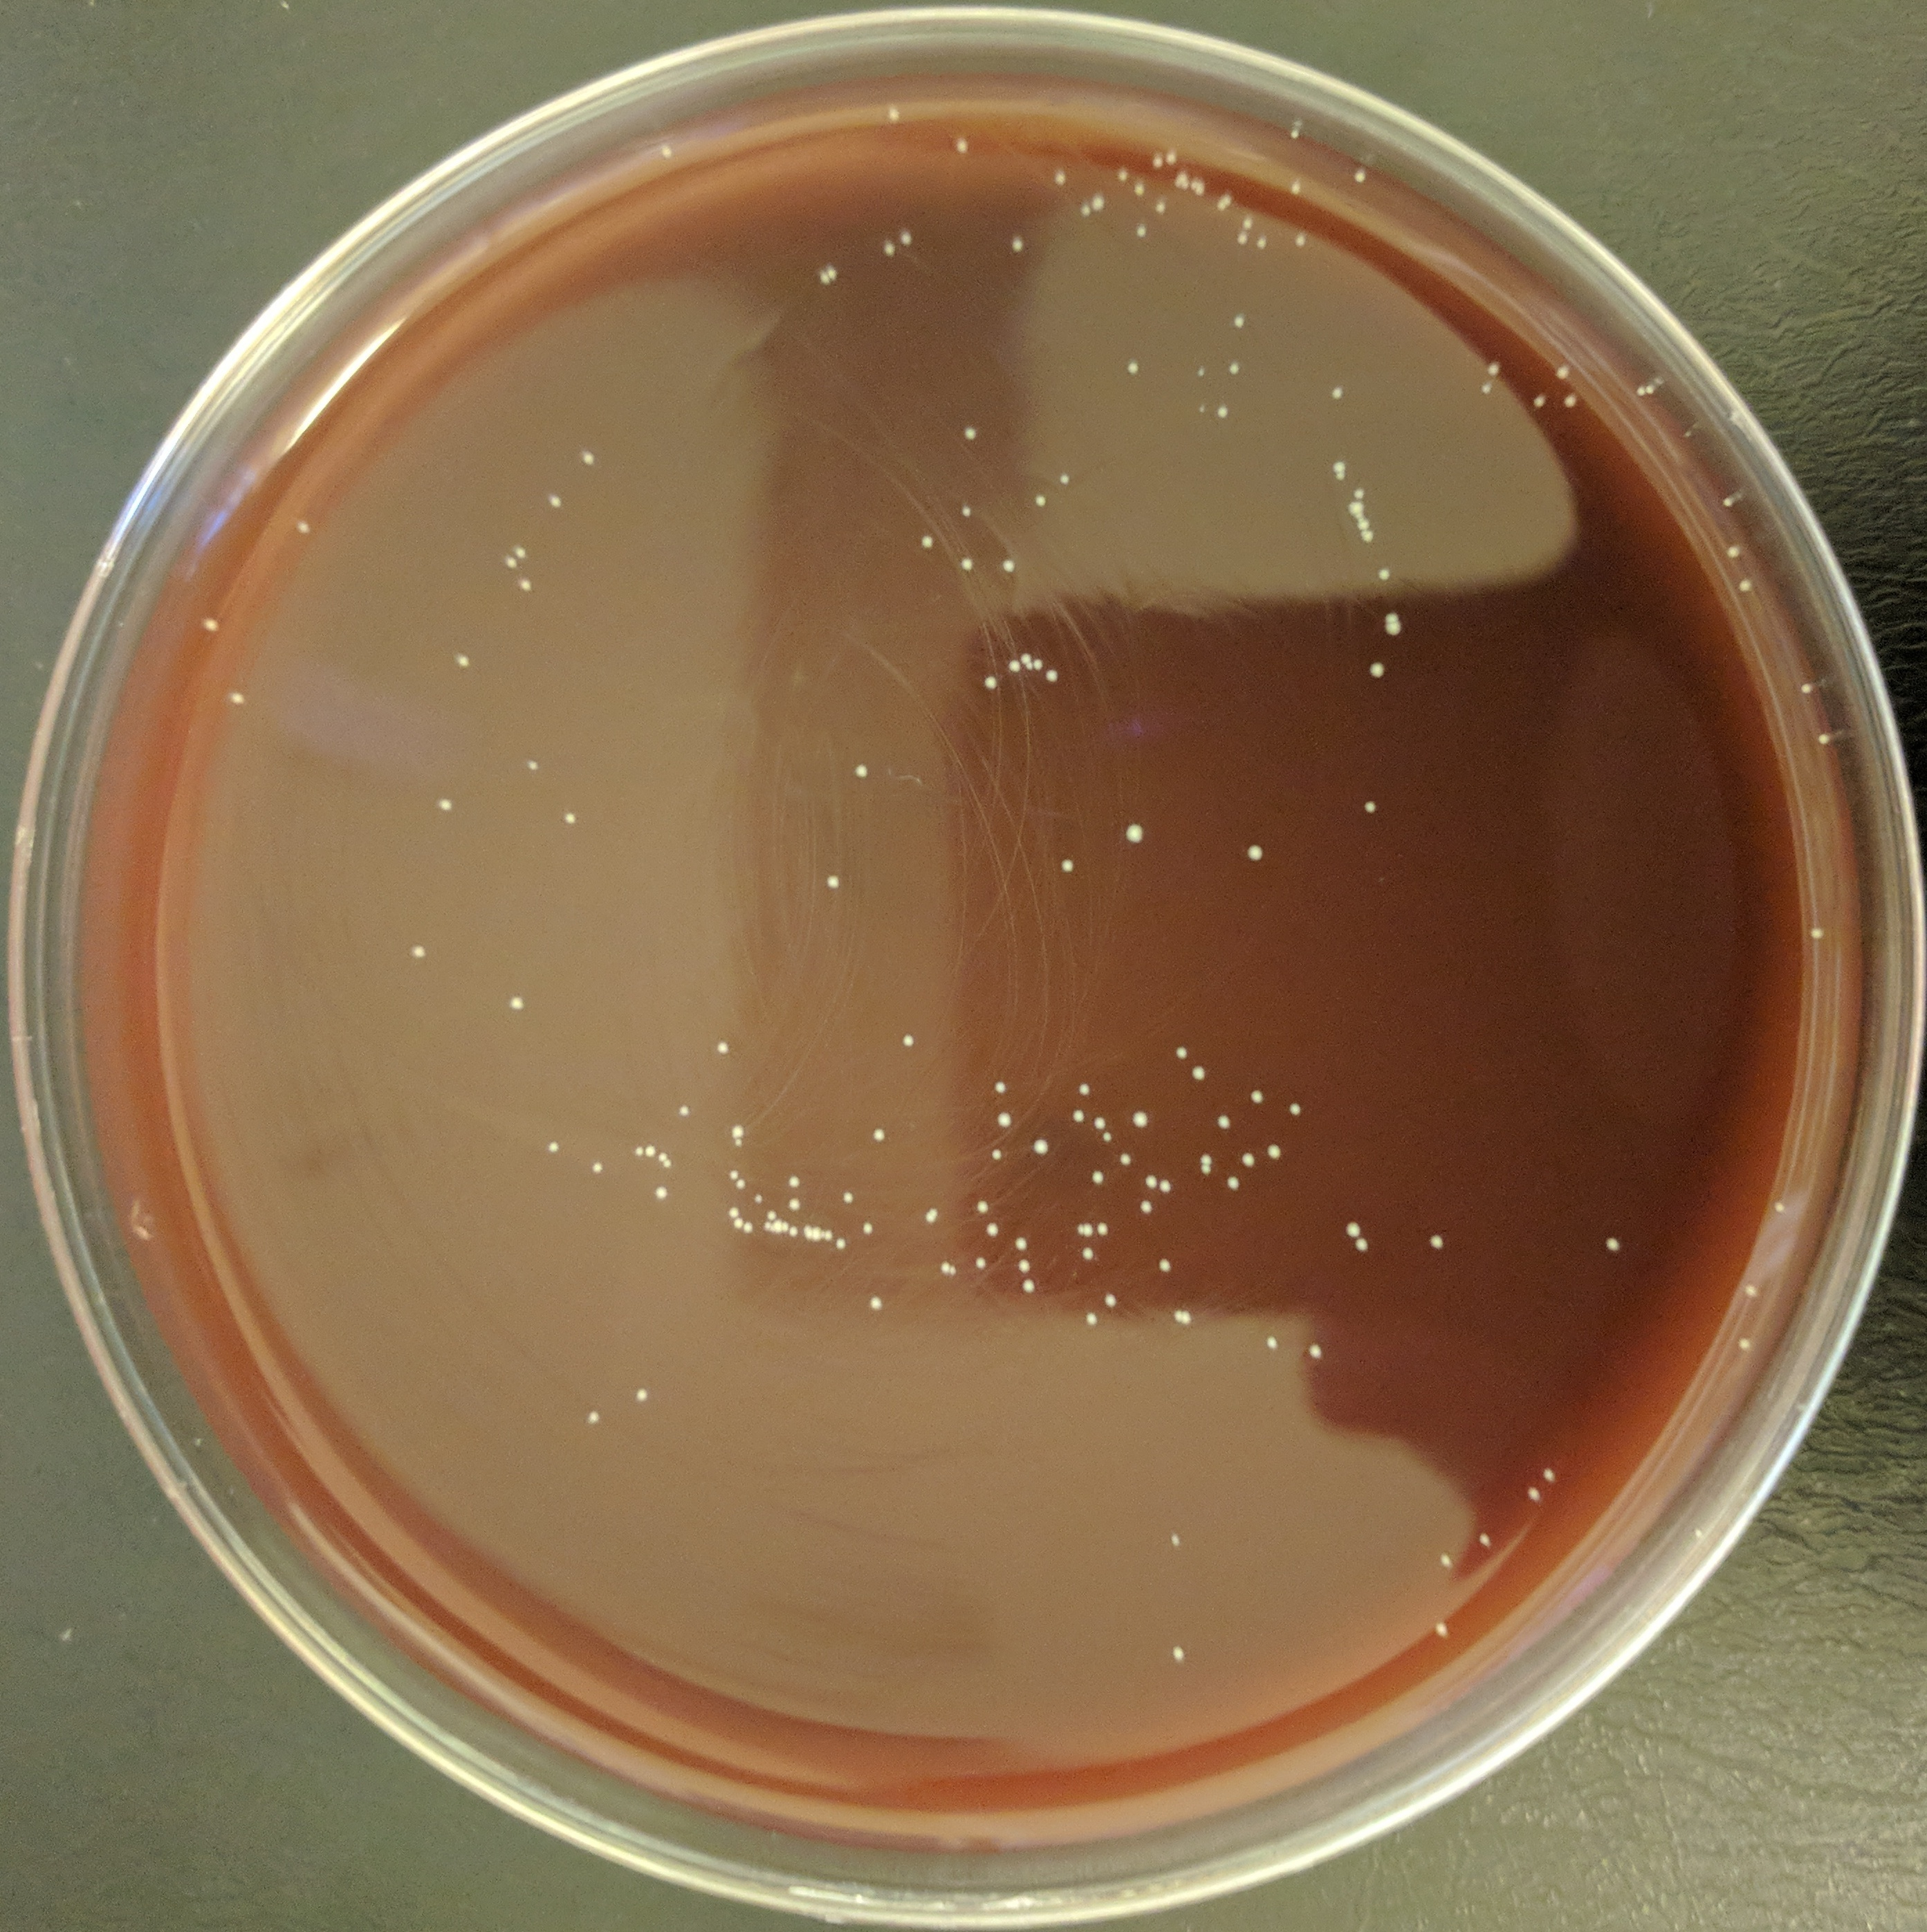sp09: (1244, 836, 1272, 868), (196, 614, 224, 640), (448, 648, 476, 672), (1168, 1641, 1193, 1669), (1433, 1549, 1463, 1572), (224, 686, 249, 713), (1124, 820, 1149, 847), (1159, 1530, 1188, 1553), (291, 517, 316, 542), (881, 102, 905, 127), (1057, 852, 1080, 879), (956, 420, 983, 443), (404, 940, 431, 963), (1541, 1464, 1565, 1487), (997, 550, 1018, 577), (948, 132, 974, 154), (849, 762, 877, 782), (1048, 166, 1071, 189), (1807, 923, 1830, 946), (1016, 1276, 1039, 1299), (976, 672, 1001, 693), (1285, 176, 1306, 201), (866, 1290, 888, 1314), (1101, 1290, 1121, 1316), (577, 445, 600, 466), (431, 792, 454, 813), (1366, 660, 1389, 681), (1602, 1233, 1623, 1256), (1265, 1142, 1286, 1164), (1128, 1110, 1151, 1131), (1029, 1136, 1052, 1157), (1304, 1341, 1325, 1364), (1189, 175, 1209, 199), (512, 577, 536, 596), (1482, 358, 1507, 378), (870, 1122, 889, 1147), (1172, 168, 1189, 194), (655, 143, 681, 161), (1237, 1149, 1258, 1170), (993, 1108, 1015, 1129), (840, 1187, 861, 1209), (1008, 235, 1031, 254), (1719, 492, 1738, 515), (1428, 1230, 1447, 1253), (1214, 1112, 1233, 1134), (1154, 1253, 1173, 1276), (634, 1383, 653, 1406), (821, 873, 845, 891), (1549, 363, 1574, 381), (1736, 1281, 1761, 1299), (1431, 1616, 1449, 1641), (861, 1216, 879, 1240), (1477, 1528, 1493, 1554), (510, 542, 531, 561), (955, 556, 976, 575), (956, 501, 976, 522), (1248, 1085, 1267, 1106), (1172, 1041, 1193, 1060), (1087, 1168, 1106, 1189), (1076, 1244, 1098, 1263), (981, 1219, 1002, 1239), (921, 1205, 941, 1226), (1735, 1334, 1754, 1355), (1525, 1484, 1544, 1505), (785, 1173, 806, 1193), (1530, 388, 1548, 411), (1348, 501, 1373, 517), (812, 265, 828, 289), (916, 531, 935, 550), (1031, 494, 1050, 513), (1352, 168, 1371, 187), (1475, 379, 1495, 399), (1188, 1064, 1207, 1083), (1013, 1256, 1032, 1276), (1357, 528, 1375, 549), (1285, 1101, 1306, 1119), (1075, 1080, 1096, 1097), (1094, 1219, 1112, 1240), (1009, 1235, 1031, 1253), (1181, 1304, 1195, 1330), (1263, 1332, 1281, 1353), (584, 1404, 602, 1426), (784, 1194, 805, 1212), (727, 1120, 748, 1138), (1092, 189, 1108, 212), (1357, 798, 1380, 813), (1382, 621, 1405, 637), (1726, 542, 1742, 565), (1233, 311, 1248, 335), (544, 492, 563, 510), (896, 226, 916, 243), (1124, 358, 1142, 378), (1350, 1237, 1369, 1254), (1223, 1175, 1242, 1193), (1069, 1106, 1089, 1124), (990, 1078, 1009, 1096), (724, 1166, 741, 1186), (674, 1101, 692, 1120), (1045, 667, 1066, 683), (1196, 1150, 1218, 1166), (642, 1142, 658, 1163), (828, 261, 842, 284), (1113, 164, 1128, 187), (1373, 565, 1391, 582), (1343, 1219, 1361, 1237), (881, 240, 896, 259), (1214, 402, 1230, 422), (1149, 154, 1168, 169), (1115, 1150, 1135, 1166), (1076, 205, 1098, 219), (1008, 658, 1022, 679), (1293, 231, 1306, 254), (559, 808, 577, 824), (1225, 362, 1241, 379), (508, 993, 524, 1011), (1158, 1177, 1173, 1194), (1138, 1198, 1154, 1216), (1172, 1304, 1182, 1330), (651, 1186, 669, 1202), (503, 550, 517, 570), (522, 753, 536, 773), (1131, 180, 1145, 199), (1329, 383, 1343, 402), (1212, 198, 1226, 217), (1814, 734, 1833, 748), (1643, 378, 1657, 397), (1382, 610, 1403, 623), (1235, 231, 1251, 247), (715, 1036, 731, 1052), (1562, 393, 1578, 409), (974, 1198, 990, 1214), (1082, 1311, 1098, 1327), (1154, 199, 1168, 217), (1193, 397, 1207, 415), (1191, 365, 1209, 379), (1239, 212, 1253, 229), (1223, 191, 1237, 208), (1798, 683, 1816, 697), (1773, 1198, 1788, 1216), (591, 1159, 605, 1177), (741, 1221, 755, 1239), (1331, 459, 1350, 471), (1055, 471, 1071, 485), (1288, 125, 1302, 141), (1738, 577, 1752, 593), (1143, 1173, 1158, 1189), (990, 1147, 1006, 1161), (1082, 1219, 1092, 1240), (939, 1260, 949, 1281), (833, 1237, 849, 1251), (803, 1221, 812, 1246), (1350, 487, 1368, 499), (1131, 226, 1151, 236), (1165, 146, 1175, 166), (773, 1217, 782, 1240), (972, 1256, 986, 1270), (725, 1203, 739, 1217), (1355, 519, 1371, 531), (900, 1032, 916, 1045), (1101, 1129, 1113, 1145), (1092, 1115, 1105, 1131), (787, 1223, 799, 1239), (732, 1179, 750, 1189), (653, 1150, 671, 1161), (814, 1223, 821, 1249), (1258, 235, 1271, 249), (1632, 385, 1645, 399), (1071, 1223, 1083, 1237), (549, 1140, 563, 1152), (632, 1143, 644, 1157), (731, 1217, 743, 1232), (949, 1262, 960, 1277), (752, 1193, 768, 1203), (824, 1228, 833, 1246), (762, 1219, 771, 1237), (1018, 651, 1031, 663), (1200, 1164, 1212, 1177), (1332, 473, 1346, 483), (780, 1221, 789, 1237), (1034, 656, 1043, 672), (766, 1210, 778, 1221), (732, 1140, 746, 1149), (1023, 655, 1031, 670), (660, 1163, 676, 1170), (821, 1226, 824, 1244)
